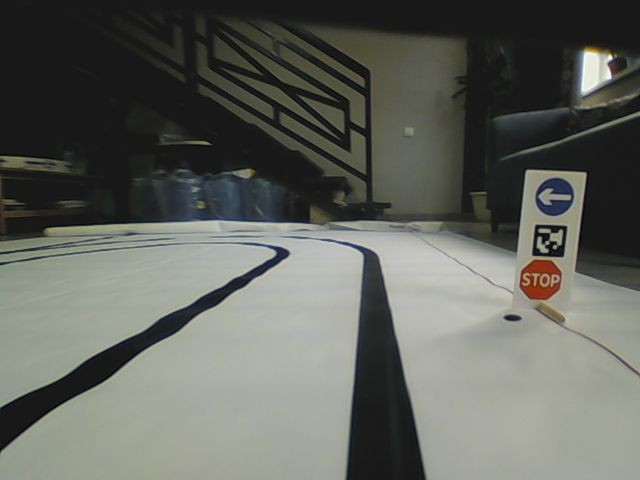Stop: (518, 257, 564, 302)
